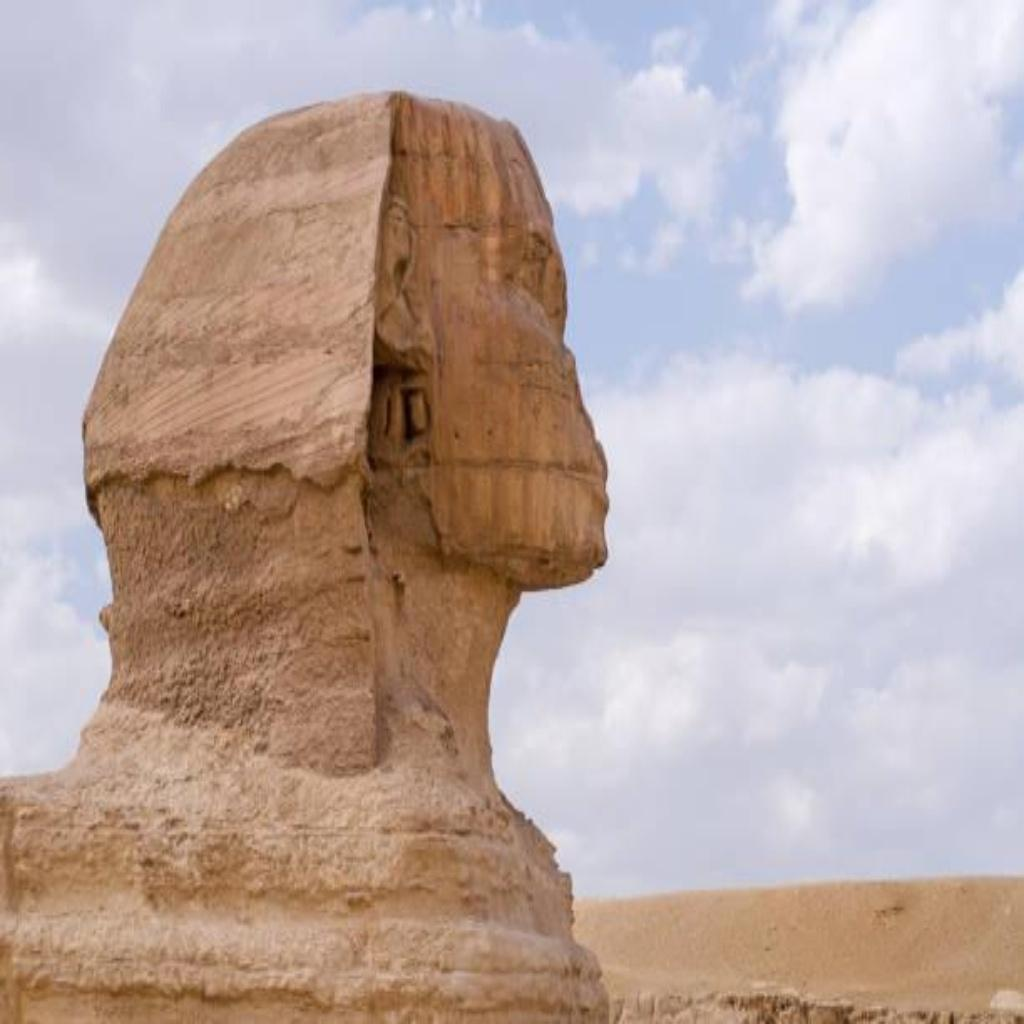Sphinx: (0, 86, 612, 1022)
